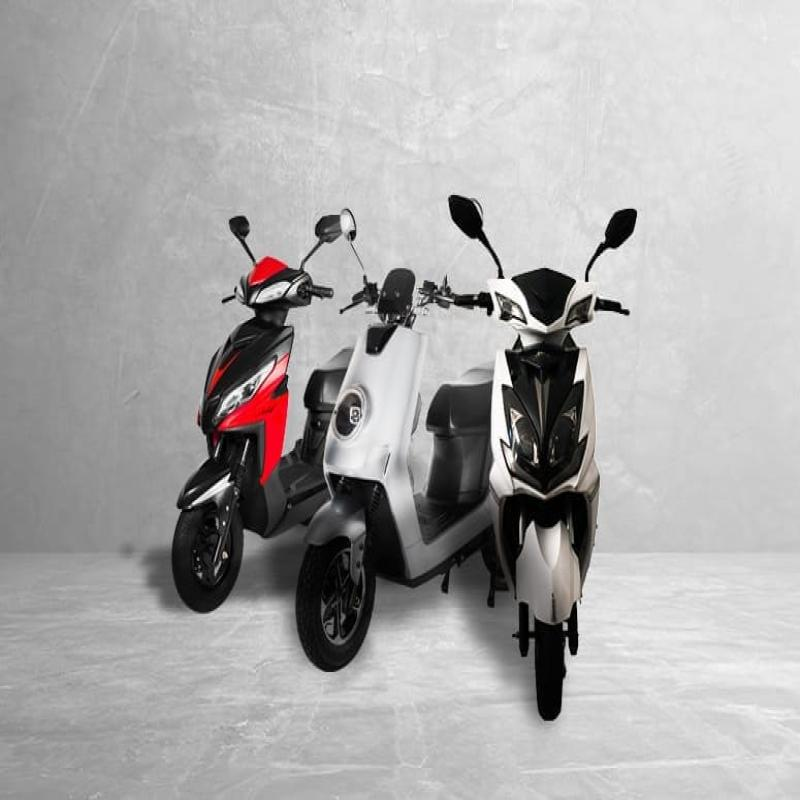bike: (415, 178, 648, 723), (316, 172, 538, 700), (168, 141, 341, 636)
